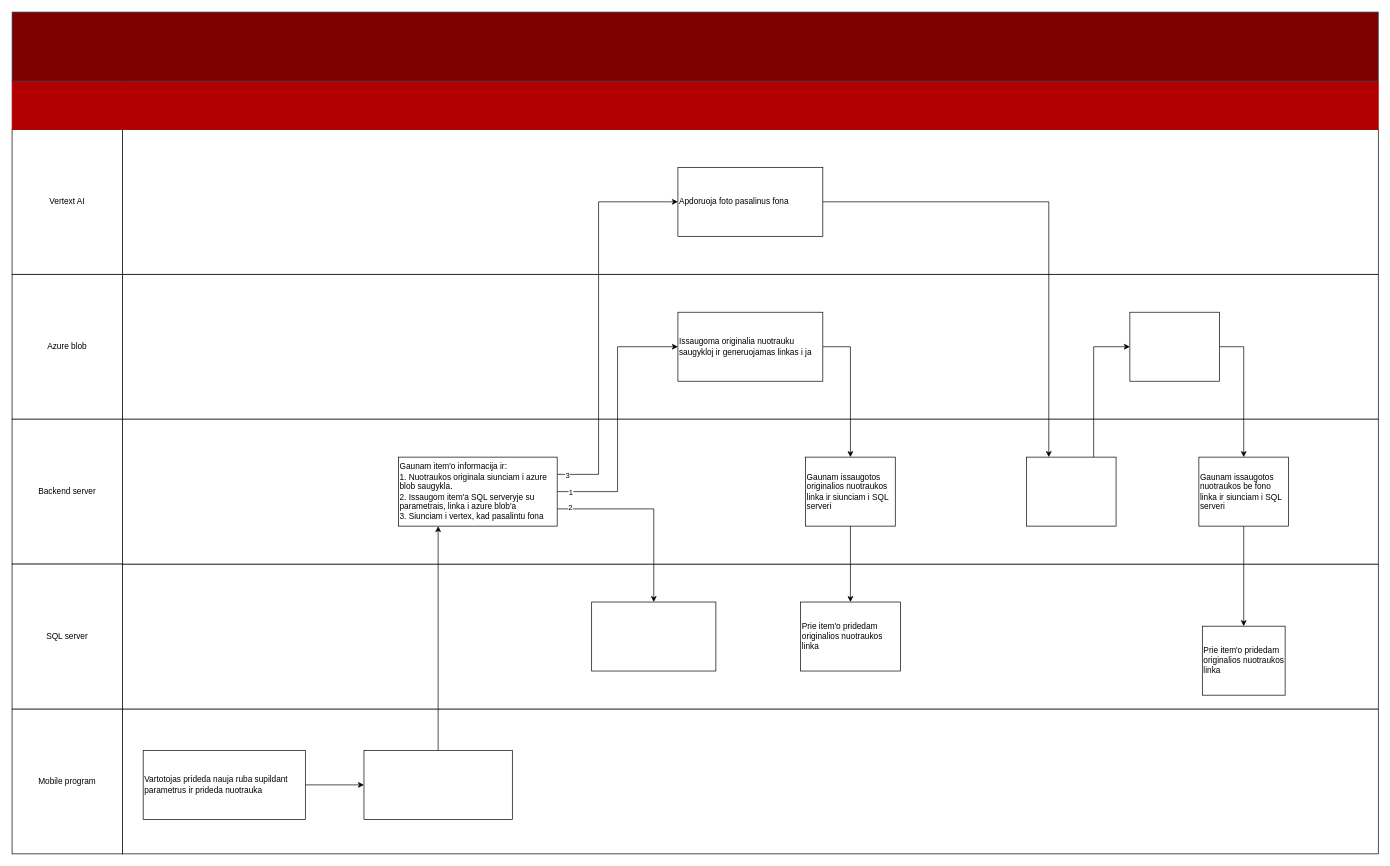
Image size: 1390x866. Some labels were removed from this diagram. The centre of each missing label's shape, as x and y in pixels:
"Gaunam nuotrauka be fono ir siunciam i azure blob, kad issaugoti" belongs at (1071,491).
"Issaugoma nuotrauka be fono saugykloj ir generuojamas linkas i ja" belongs at (1174,346).
"Issaugomas itemas duombazes lentelej su parametrais" belongs at (653,636).
"Item'o issaugojimo procesas" belongs at (694,46).
"Patvirtinus duomenys siunciami i serveri" belongs at (437,784).
"Procesas" belongs at (750,104).
"Servisas" belongs at (66,104).
